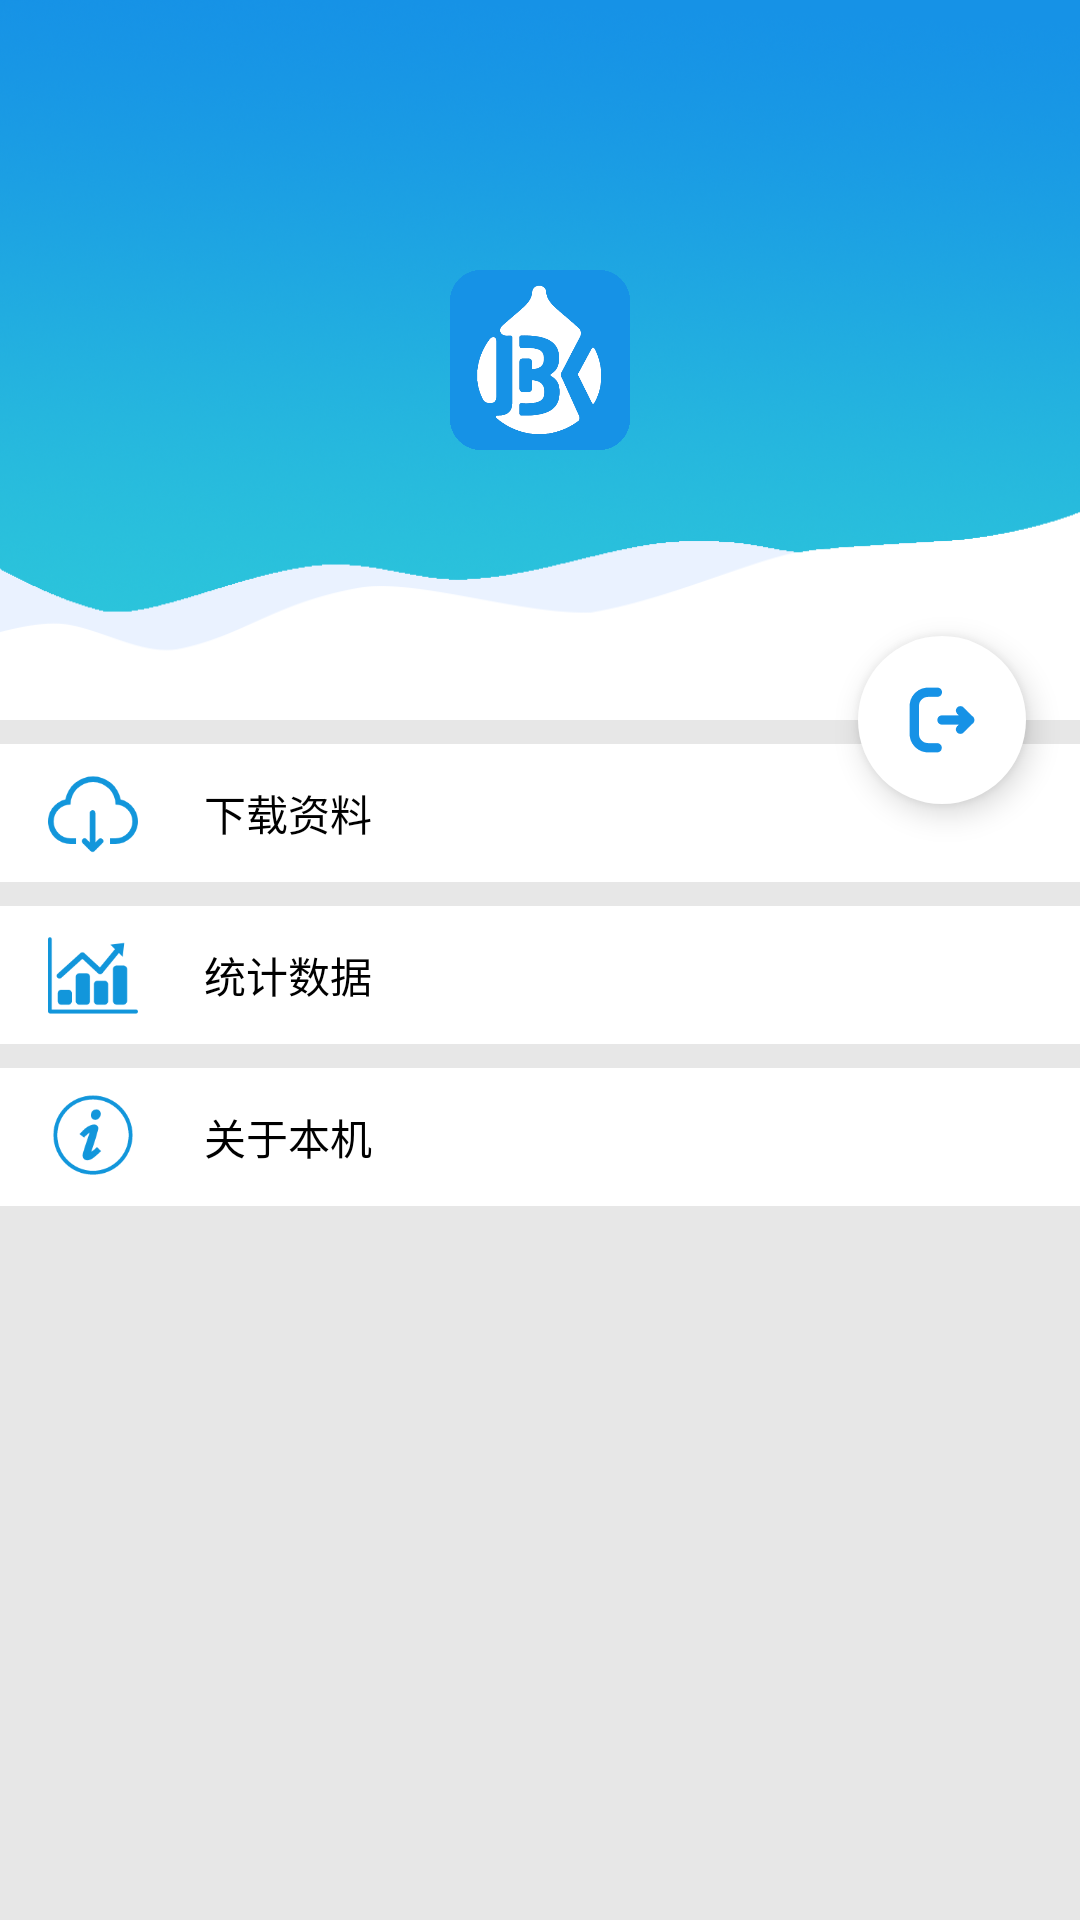

Screen size 1080x1920. Icon name, then its box in pixels as (x1=x1, y1=y1, x2=x2, y2=y2):
about: (x1=53, y1=1095, x2=133, y2=1175)
download: (x1=48, y1=776, x2=138, y2=852)
fragment my login out: (x1=909, y1=687, x2=1025, y2=753)
statistical: (x1=48, y1=937, x2=138, y2=1014)
